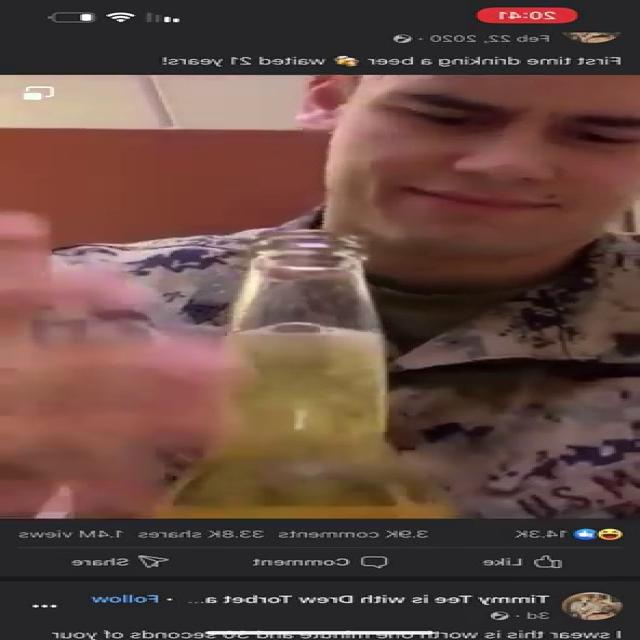Bottle: (154, 236, 460, 518)
Hand: (0, 325, 435, 520)
Mouth: (386, 186, 588, 209)
